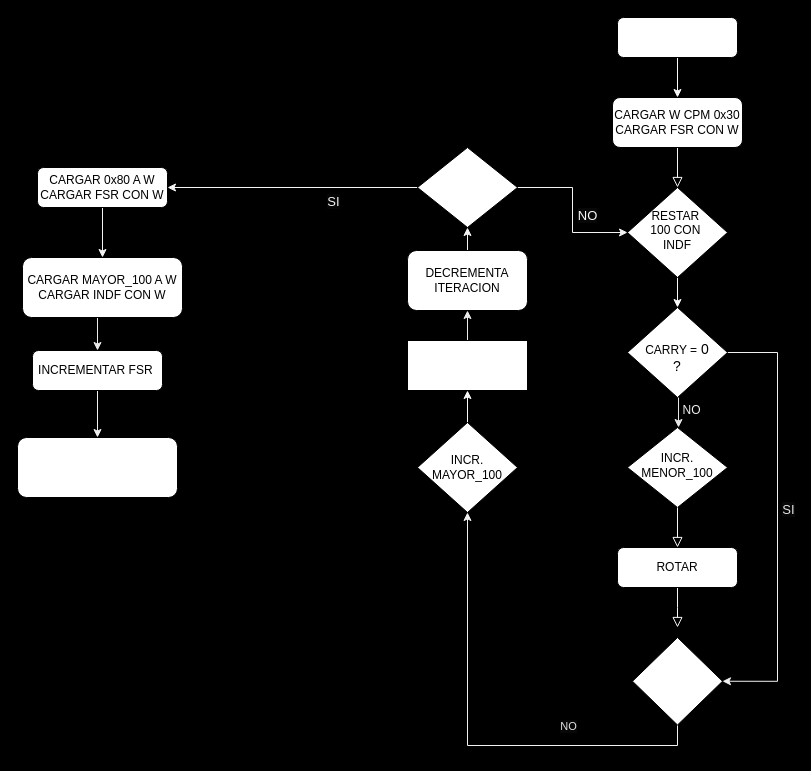
Some shapes in this 811 by 771 pixel diagram are drawn without their labels. The box of each missing label's shape, as (x1, y1, x2, y2) in pixels:
CARGAR MENOR_100 A W CARGAR INDF CON W: (16, 436, 178, 498)
CARRY = 1 ?: (632, 636, 722, 725)
INCREMENTA FSR: (406, 340, 528, 390)
INICIO: (616, 16, 738, 58)
ITERACION = 0?: (416, 146, 518, 228)
